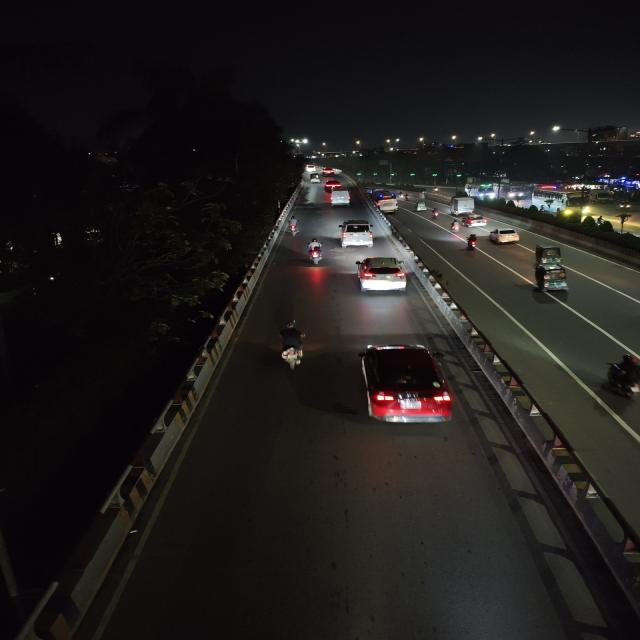bus: (535, 189, 590, 217), (465, 180, 497, 199), (446, 195, 474, 215), (378, 191, 400, 214), (502, 184, 530, 200)
car: (354, 340, 456, 433), (352, 255, 412, 296), (336, 219, 376, 249), (487, 227, 522, 246), (328, 186, 352, 208), (458, 213, 490, 227), (323, 178, 342, 190), (321, 168, 336, 176)
cng: (531, 263, 572, 294), (532, 243, 564, 267), (414, 200, 426, 212)
motorcycle: (601, 351, 640, 405), (272, 322, 314, 372), (304, 239, 325, 266), (287, 214, 301, 241), (462, 232, 480, 252), (448, 218, 462, 233), (430, 208, 440, 219)
truck: (378, 198, 400, 214)
